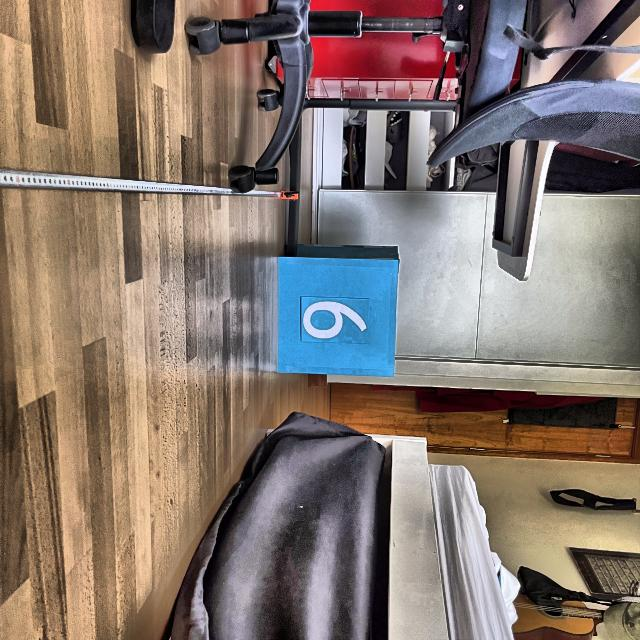blue box: (276, 241, 398, 378)
six: (302, 300, 369, 340)
